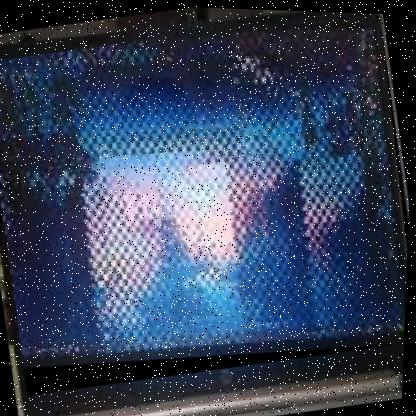fade: (0, 0, 415, 407)
